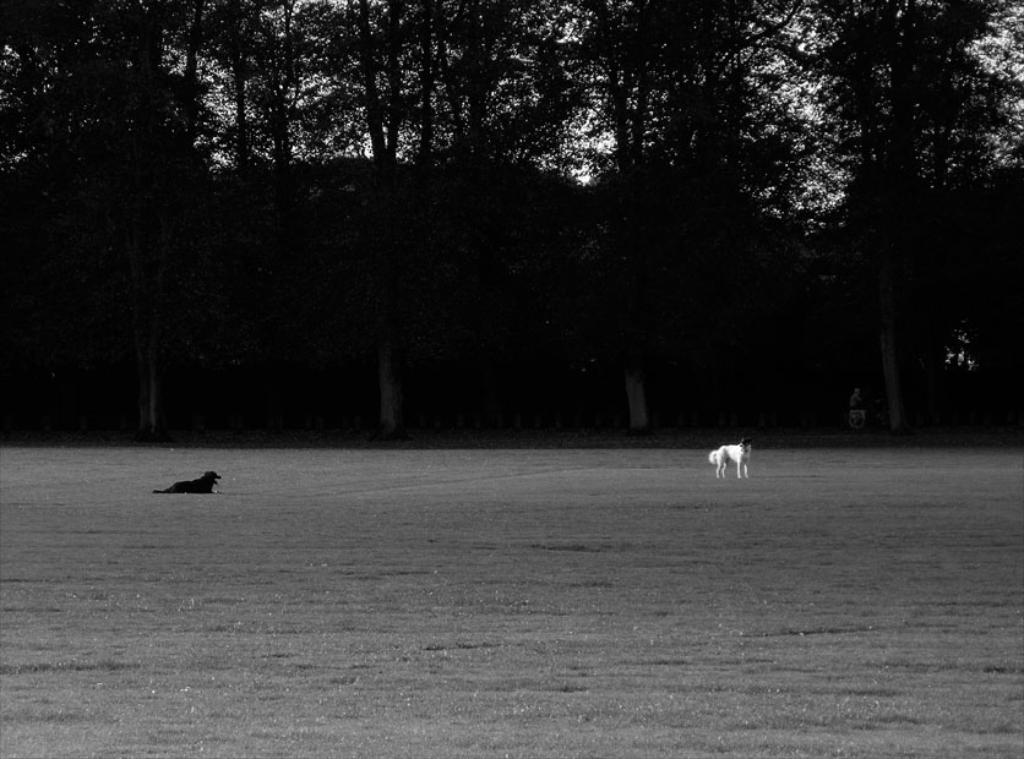Animal: (705, 437, 747, 480), (152, 469, 219, 494)
